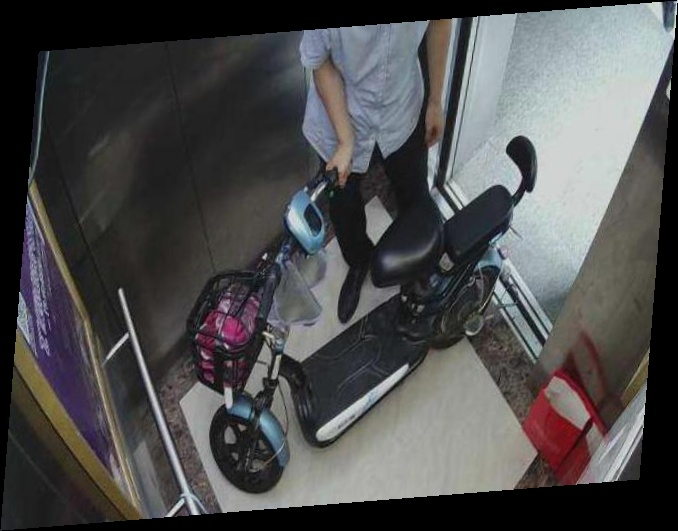electromobile: (141, 166, 524, 493)
